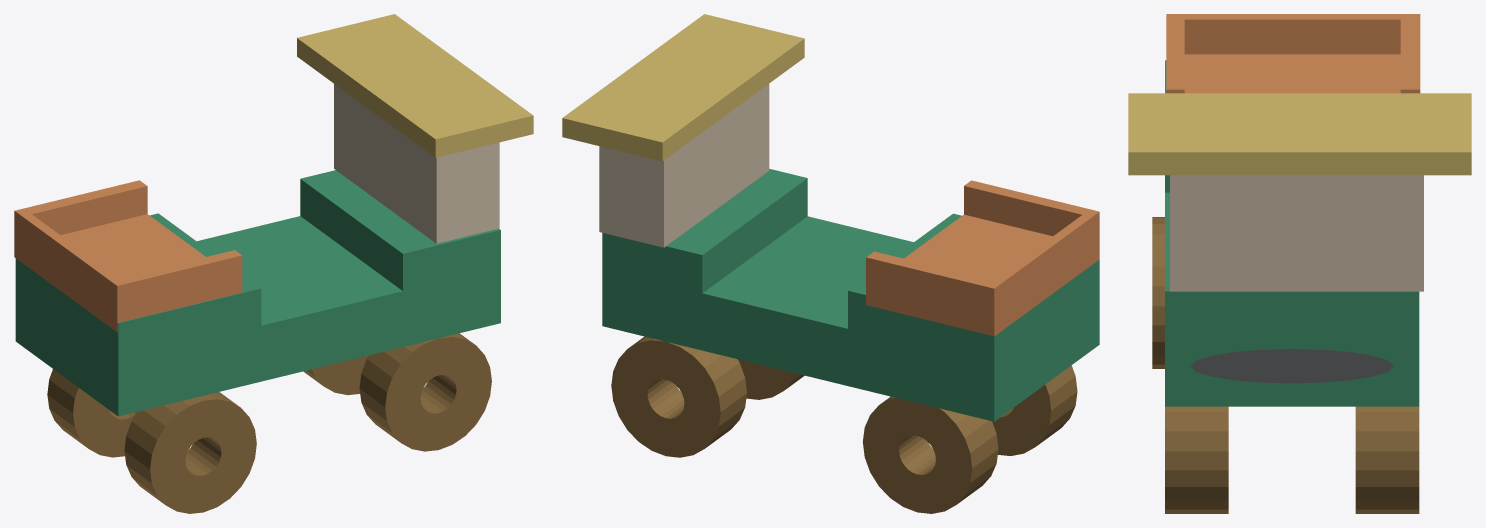
Rendered from POGOnoob-2.glb.
3 renders of one model, left to right at view 1: azimuth 30°, elevation 25°; view 2: azimuth 150°, elevation 25°; view 3: azimuth 270°, elevation 25°, orthographic. The views are drawn at different scales.
Parts seen in each view (by area): view 1: Mesh_Mesh_head_geo.001_lambert2SG.001; view 2: Mesh_Mesh_head_geo.001_lambert2SG.001; view 3: Mesh_Mesh_head_geo.001_lambert2SG.001.
Boxes of the visible parts, box(x1,y1,x2,y2) form: Mesh_Mesh_head_geo.001_lambert2SG.001: box(14, 14, 533, 513); Mesh_Mesh_head_geo.001_lambert2SG.001: box(562, 14, 1099, 513); Mesh_Mesh_head_geo.001_lambert2SG.001: box(1128, 14, 1471, 513).
Bounding box in the file's own units: 45.06 × 35 × 27.
